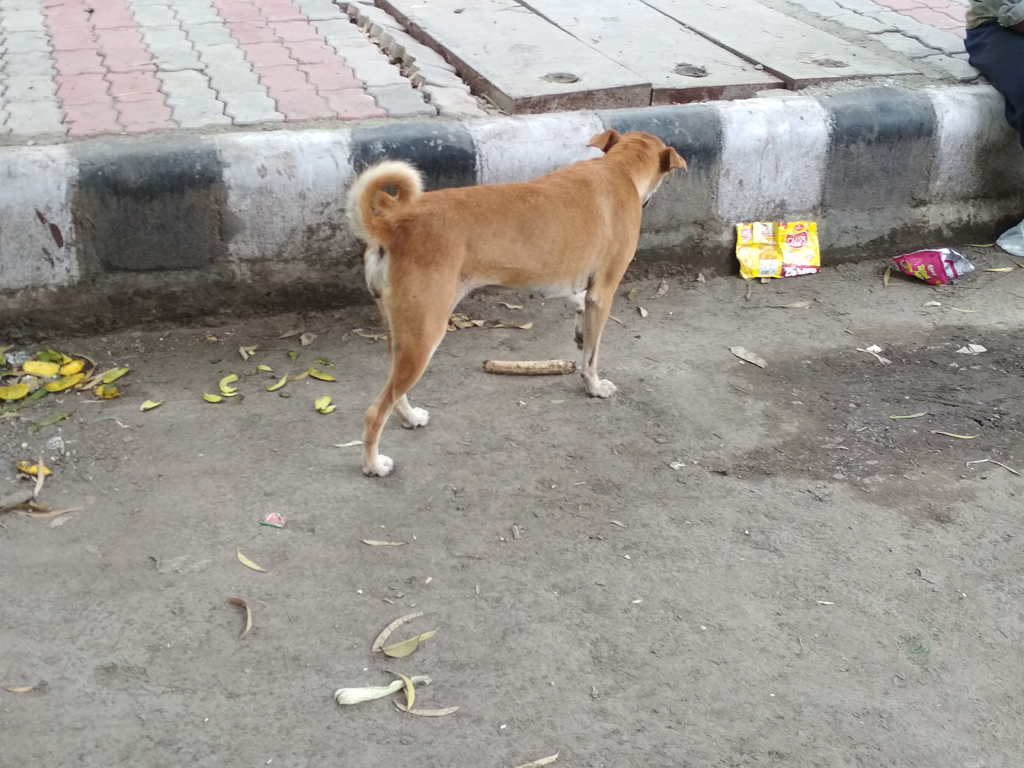dog: (346, 130, 687, 476)
